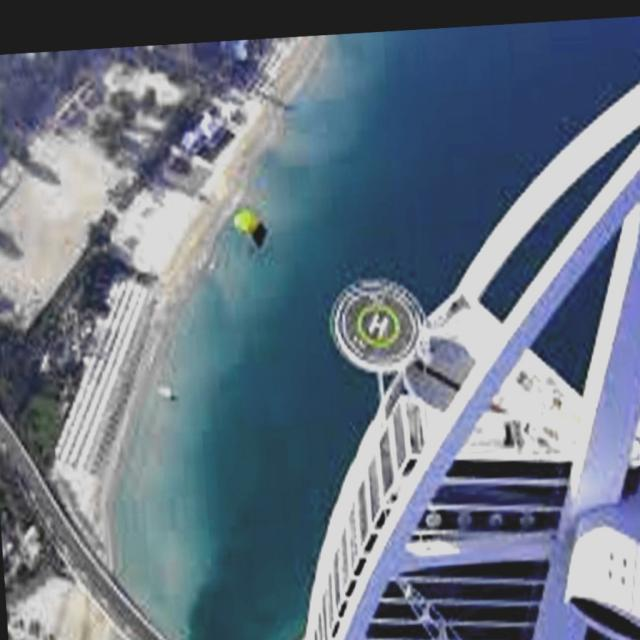helipad: (354, 300, 401, 349)
